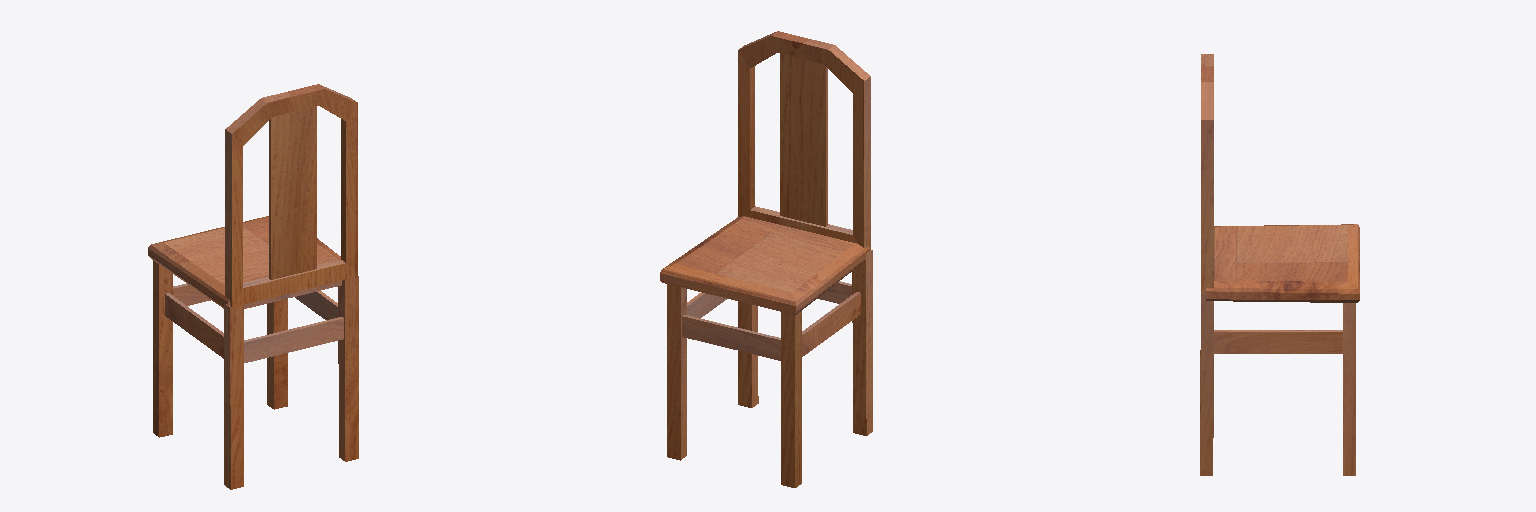
The picture shows the model from 3 angles: view 1: azimuth 30°, elevation 25°; view 2: azimuth 150°, elevation 25°; view 3: azimuth 270°, elevation 25°; orthographic projection.
Parts seen in each view (by area): view 1: Chair; view 2: Chair; view 3: Chair.
Part boxes in pixels (left/top/right/bottom): Chair: left=148, top=84, right=358, bottom=489; Chair: left=660, top=31, right=872, bottom=487; Chair: left=1200, top=54, right=1359, bottom=475.
Bounding box in the file's own units: 449 × 1185 × 454.
1 materials, 1 textured.